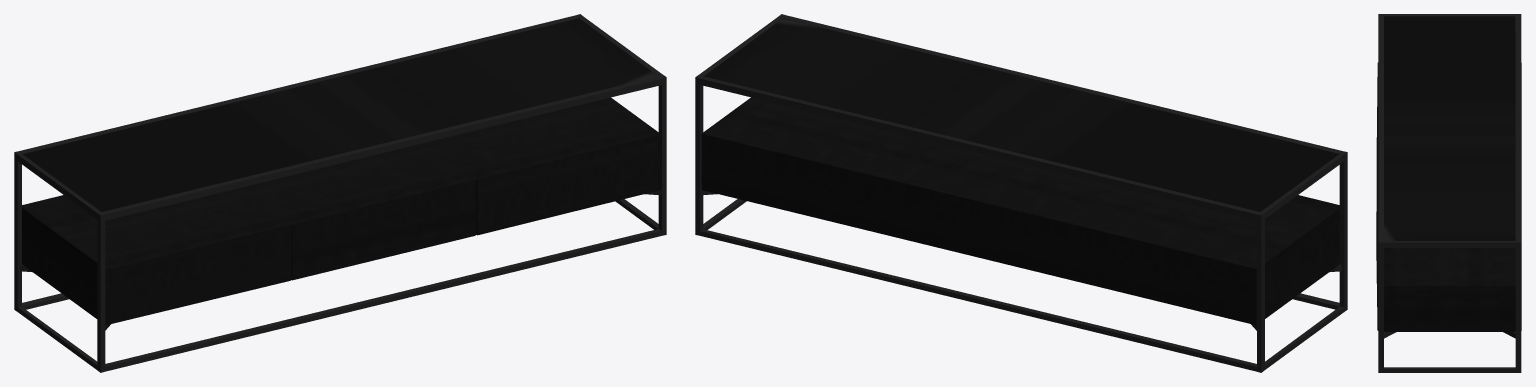
Rendered from B072ZMT5SD.glb.
The picture shows the model from 3 angles, left to right: view 1: azimuth 30°, elevation 25°; view 2: azimuth 150°, elevation 25°; view 3: azimuth 270°, elevation 25°; orthographic projection. The views are drawn at different scales.
Parts seen in each view (by area): view 1: "$AFOMNMPKPJBAAAAAICBAAAAAAAAAAIAEIJPA"; view 2: "$AFOMNMPKPJBAAAAAICBAAAAAAAAAAIAEIJPA"; view 3: "$AFOMNMPKPJBAAAAAICBAAAAAAAAAAIAEIJPA".
Part boxes in pixels (x1,y1,x2,y2): "$AFOMNMPKPJBAAAAAICBAAAAAAAAAAIAEIJPA": (14, 14, 666, 372); "$AFOMNMPKPJBAAAAAICBAAAAAAAAAAIAEIJPA": (695, 14, 1347, 372); "$AFOMNMPKPJBAAAAAICBAAAAAAAAAAIAEIJPA": (1376, 14, 1521, 372).
Size of the model in its own units: 1.49 by 0.3955 by 0.3986.
Materials: 1 (1 with a texture image).
